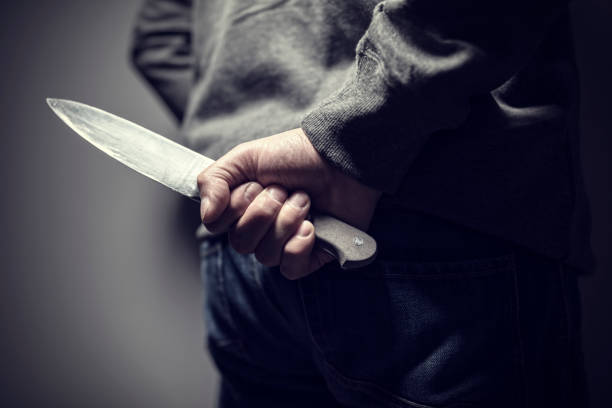knife: (45, 94, 376, 266)
